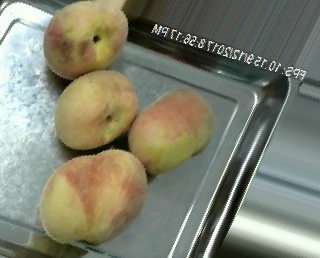Peach: (37, 150, 147, 244), (128, 86, 212, 174), (54, 69, 137, 150), (43, 0, 127, 77)
